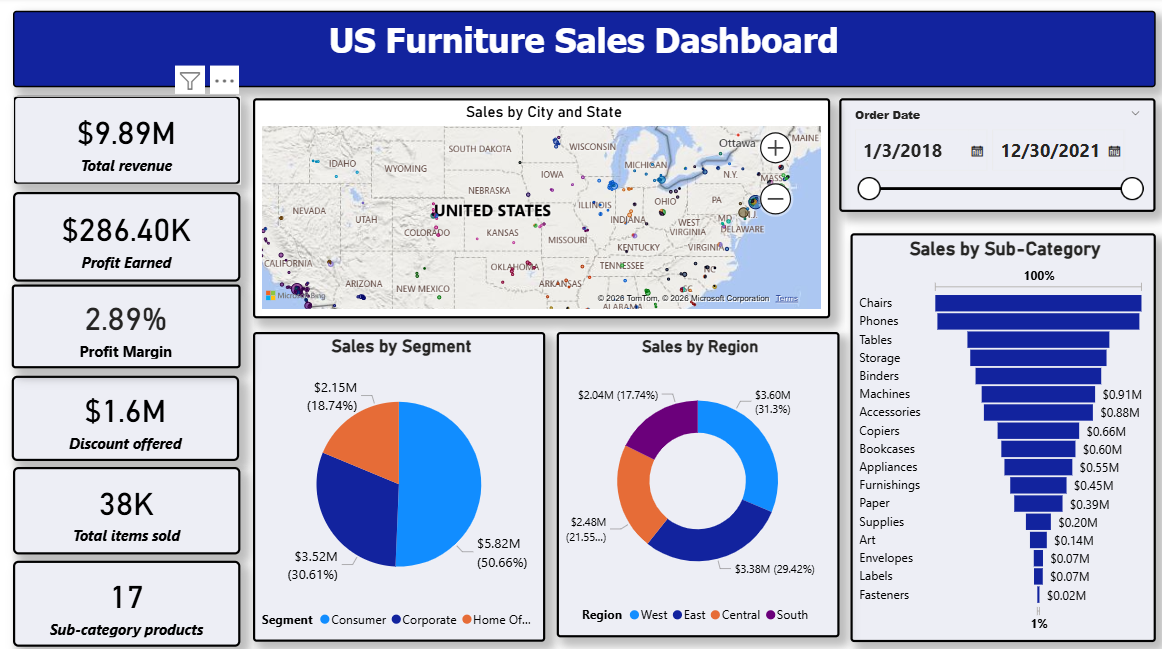

The dashboard page shown, as its layout file describes it:
{"tool":"powerbi","page":{"name":"Page 1","canvas":[1280,720],"ordinal":0},"visuals":[{"type":"textbox","box":[16.5,15.1,1254.2,83.7],"z":0},{"type":"card","fields":{"Values":["Sum(Orders.Revenue_after_discount)"]},"box":[16.5,108.4,249.7,97.4],"z":1000},{"type":"card","fields":{"Values":["Sum(Orders.Profit)"]},"box":[16.5,214.1,249.7,98.8],"z":2000},{"type":"card","fields":{"Values":["Sum(Orders.Discount offered)"]},"box":[15.1,415.8,249.7,93.3],"z":3000},{"type":"card","fields":{"Values":["Sum(Orders.Quantity)"]},"box":[16.5,516,249.7,96.1],"z":4000},{"type":"card","fields":{"Values":["Orders.Subcategory products"]},"box":[16.5,618.9,249.7,94.7],"z":5000},{"type":"slicer","fields":{"Values":["Orders.Order Date"]},"box":[923.5,111.1,347.2,124.9],"z":6000},{"type":"funnel","fields":{"Y":["Sum(Orders.Revenue)"],"Category":["Orders.Sub-Category"]},"box":[935.9,259.3,334.8,448.7],"z":7000},{"type":"map","title":"Sales by City and State","fields":{"Size":["Sum(Orders.Revenue)"],"Category":["Orders.City"],"Series":["Orders.State"]},"box":[279.9,111.1,634,241.5],"z":8000},{"type":"pieChart","fields":{"Y":["Sum(Orders.Revenue)"],"Category":["Orders.Segment"]},"box":[279.9,367.8,321.1,340.3],"z":9000},{"type":"donutChart","fields":{"Y":["Sum(Orders.Revenue)"],"Category":["Orders.Region"]},"box":[613.4,367.8,310.1,334.8],"z":10000},{"type":"card","fields":{"Values":["Orders.Profit Margin"]},"box":[15.1,315.6,251.1,91.9],"z":11000}]}

Visuals, with their boxes in screenshot pixels (x1, y1, x2, y2), scaled from the page's 1280x720 canvas onto the 1162x649 screenshot:
textbox: <bbox>15, 14, 1154, 89</bbox>
card - Sum(Orders.Revenue_after_discount): <bbox>15, 98, 242, 186</bbox>
card - Sum(Orders.Profit): <bbox>15, 193, 242, 282</bbox>
card - Sum(Orders.Discount offered): <bbox>14, 375, 240, 459</bbox>
card - Sum(Orders.Quantity): <bbox>15, 465, 242, 552</bbox>
card - Orders.Subcategory products: <bbox>15, 558, 242, 643</bbox>
slicer - Orders.Order Date: <bbox>838, 100, 1154, 213</bbox>
funnel - Sum(Orders.Revenue) x Orders.Sub-Category: <bbox>850, 234, 1154, 638</bbox>
"Sales by City and State" map: <bbox>254, 100, 830, 318</bbox>
pieChart - Sum(Orders.Revenue) x Orders.Segment: <bbox>254, 332, 546, 638</bbox>
donutChart - Sum(Orders.Revenue) x Orders.Region: <bbox>557, 332, 838, 633</bbox>
card - Orders.Profit Margin: <bbox>14, 284, 242, 367</bbox>
